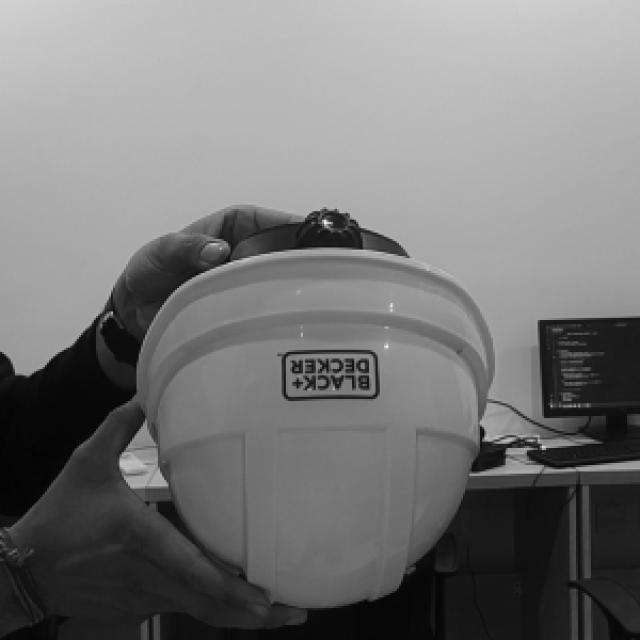safety_helmet: (136, 249, 495, 609)
